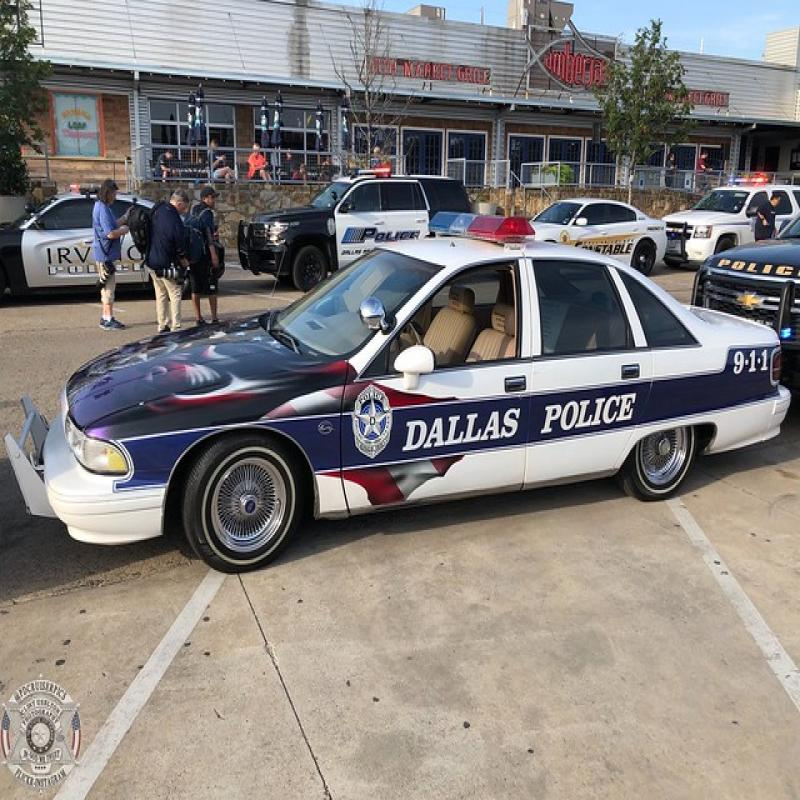AmbulanceSiren: (425, 203, 547, 267)
